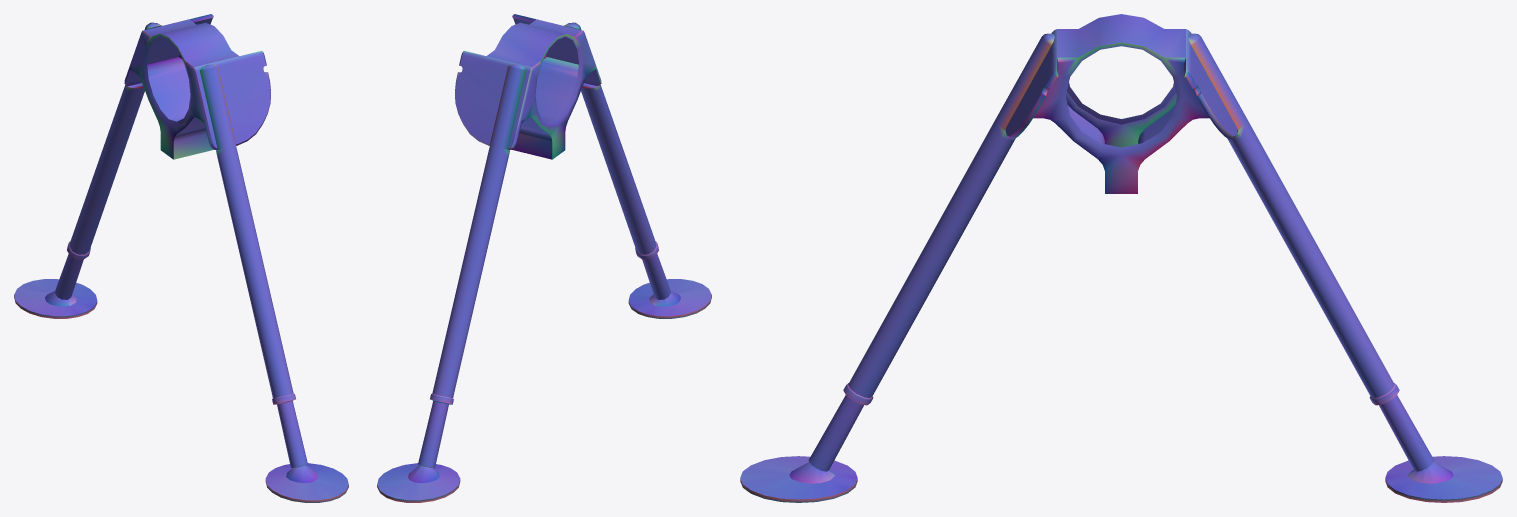
File: cw_CheyanneR01_Stool_WL.fbx
3 renders of one model, left to right at view 1: azimuth 30°, elevation 25°; view 2: azimuth 150°, elevation 25°; view 3: azimuth 270°, elevation 25°, orthographic. The views are drawn at different scales.
Visible parts, largest first — view 1: cw_CheyanneR01_Stool_WL_lod0; view 2: cw_CheyanneR01_Stool_WL_lod0; view 3: cw_CheyanneR01_Stool_WL_lod0.
Boxes of the visible parts, x1=… form: cw_CheyanneR01_Stool_WL_lod0: x1=14, y1=14, x2=348, y2=502; cw_CheyanneR01_Stool_WL_lod0: x1=377, y1=14, x2=711, y2=502; cw_CheyanneR01_Stool_WL_lod0: x1=740, y1=14, x2=1502, y2=502.
Size of what is drawn, in the model's own units: 0.0541 by 0.2051 by 0.3043.
